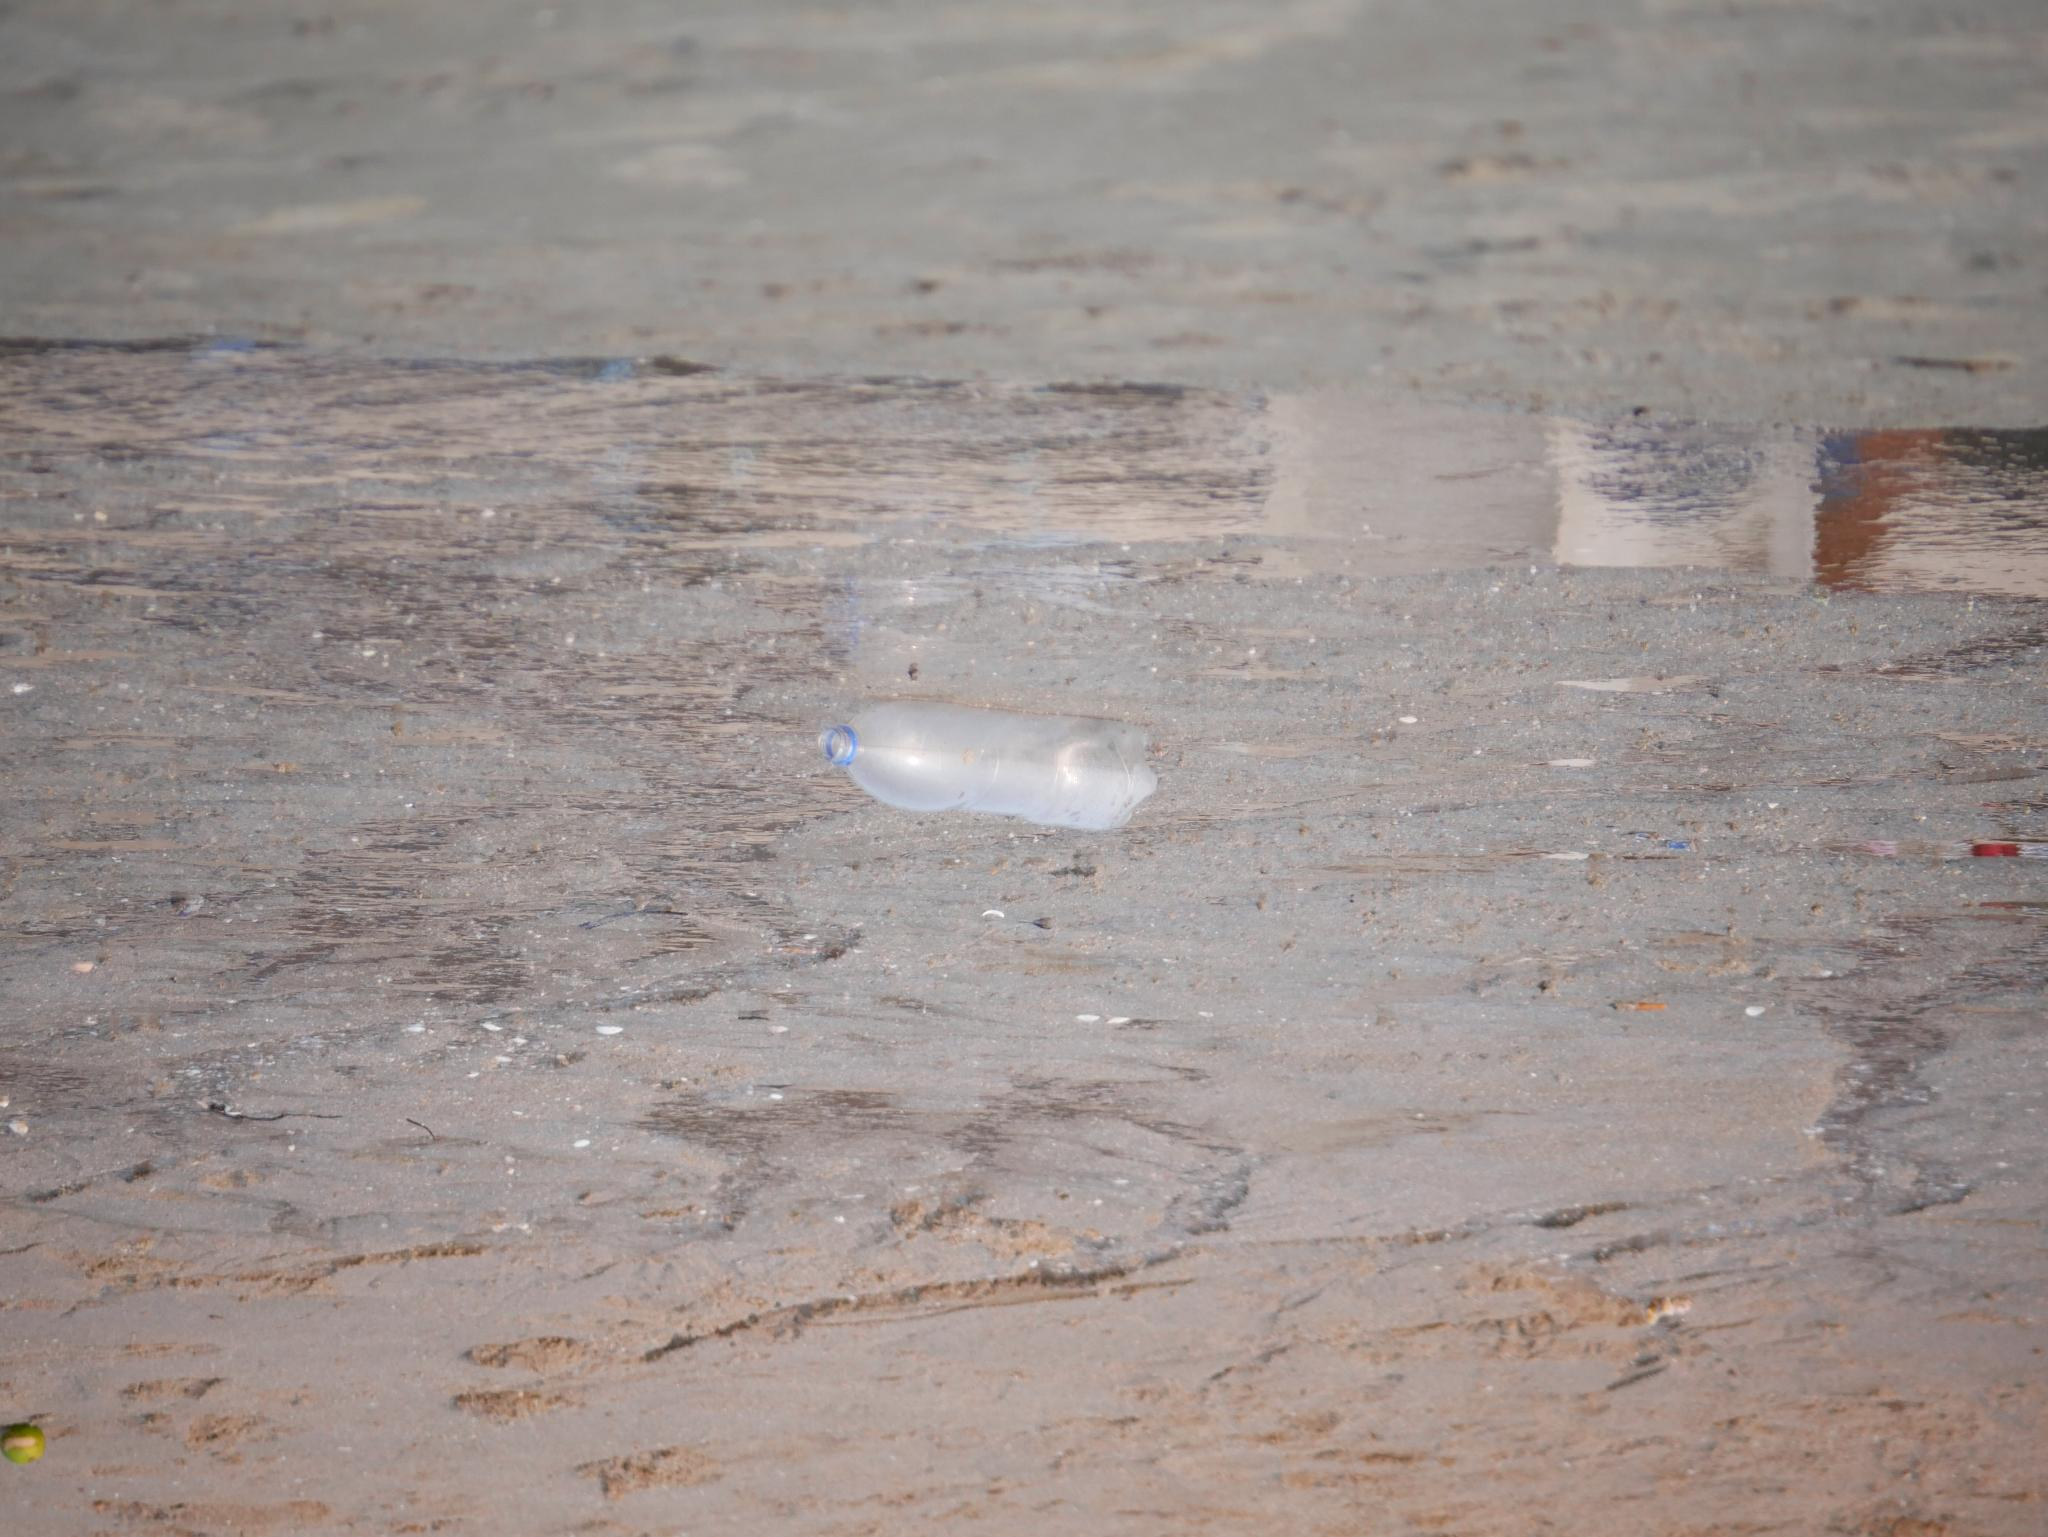Plastic: (784, 668, 1191, 857)
